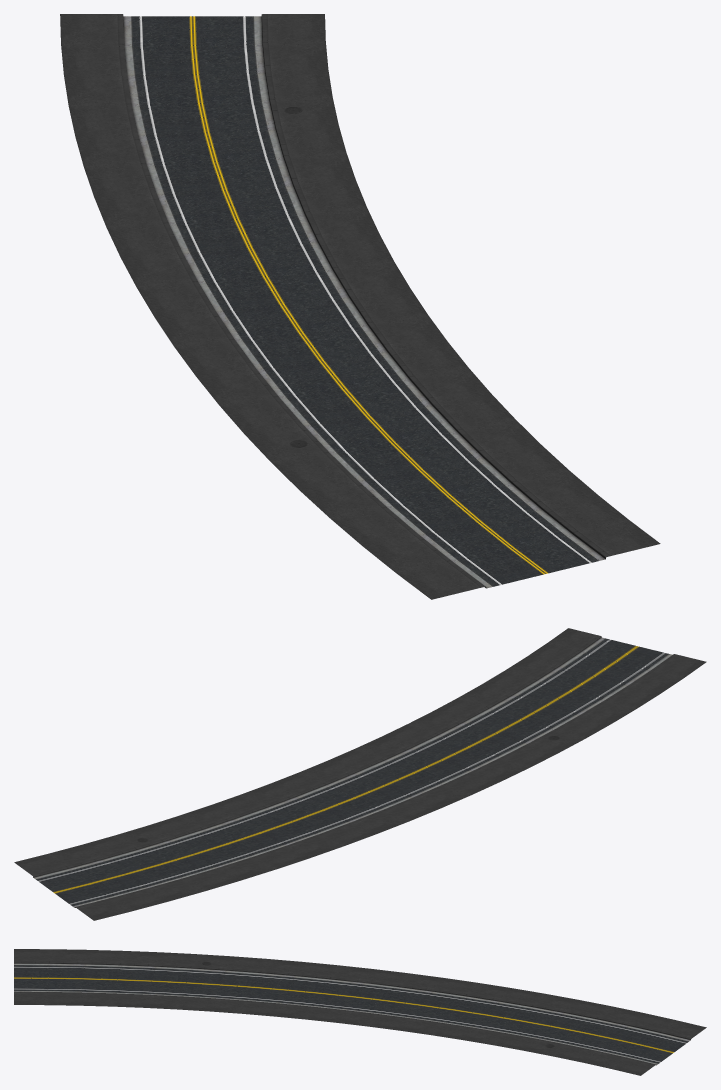
Rendered from city_road_US_cont_marking_30right.fbx.
3 renders of one model, top to bottom at view 1: azimuth 30°, elevation 25°; view 2: azimuth 150°, elevation 25°; view 3: azimuth 270°, elevation 25°, orthographic. The views are drawn at different scales.
Parts seen in each view (by area): view 1: obj0; view 2: obj0; view 3: obj0.
Boxes of the visible parts, bbox=[...] form: obj0: bbox=[60, 14, 660, 599]; obj0: bbox=[14, 628, 706, 920]; obj0: bbox=[14, 949, 706, 1075].
Bounding box in the file's own units: 66.25 × 0.254 × 153.
